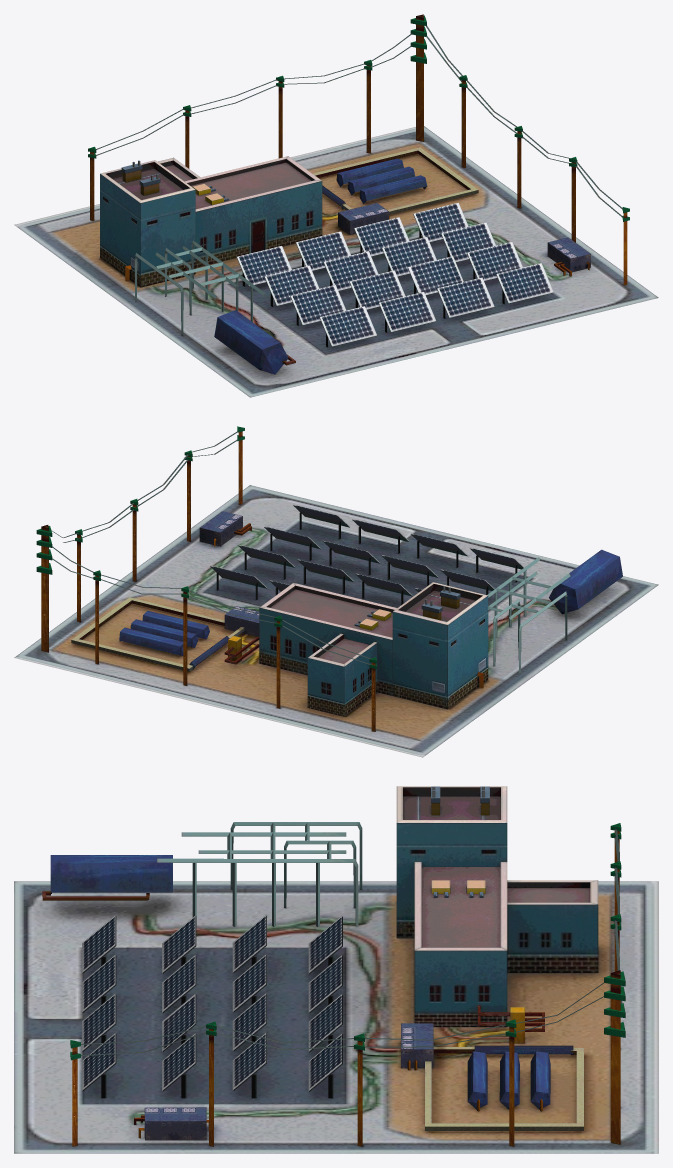
The model's file is L光伏发电站.obj.
3 renders of one model, top to bottom at view 1: azimuth 30°, elevation 25°; view 2: azimuth 150°, elevation 25°; view 3: azimuth 270°, elevation 25°, orthographic. The views are drawn at different scales.
Parts seen in each view (by area): view 1: dianchang03; view 2: dianchang03; view 3: dianchang03.
Boxes of the visible parts, left/top/right/bottom form: dianchang03: left=14, top=14, right=658, bottom=397; dianchang03: left=14, top=426, right=658, bottom=757; dianchang03: left=14, top=786, right=658, bottom=1153.
Size of the model in its own units: 10.16 by 2.95 by 10.16.
